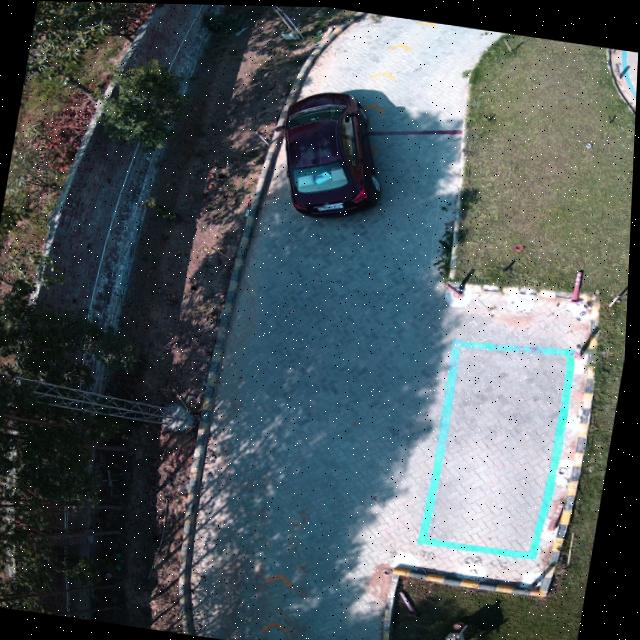car: (285, 89, 382, 216)
